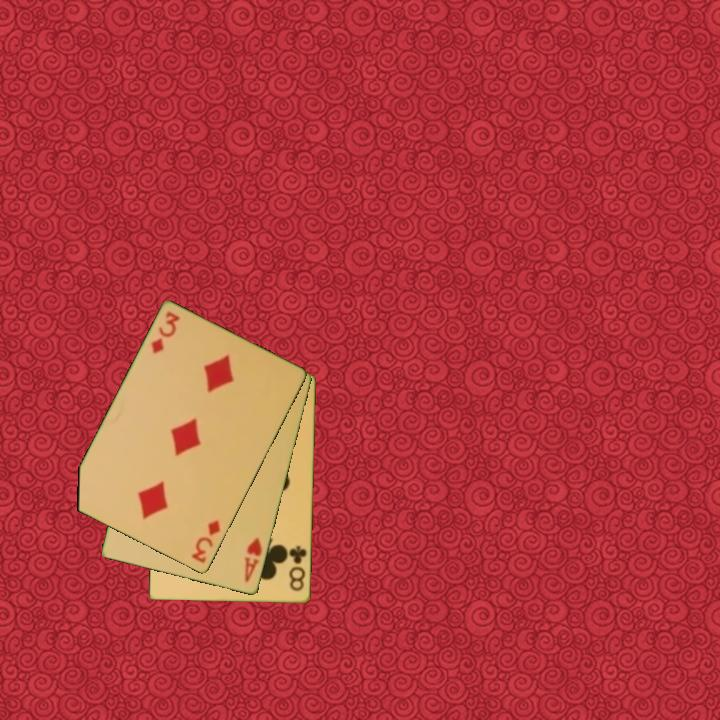3d: (188, 516, 223, 566), (148, 308, 183, 357)
8c: (286, 542, 310, 594)
Ah: (241, 534, 265, 585)
